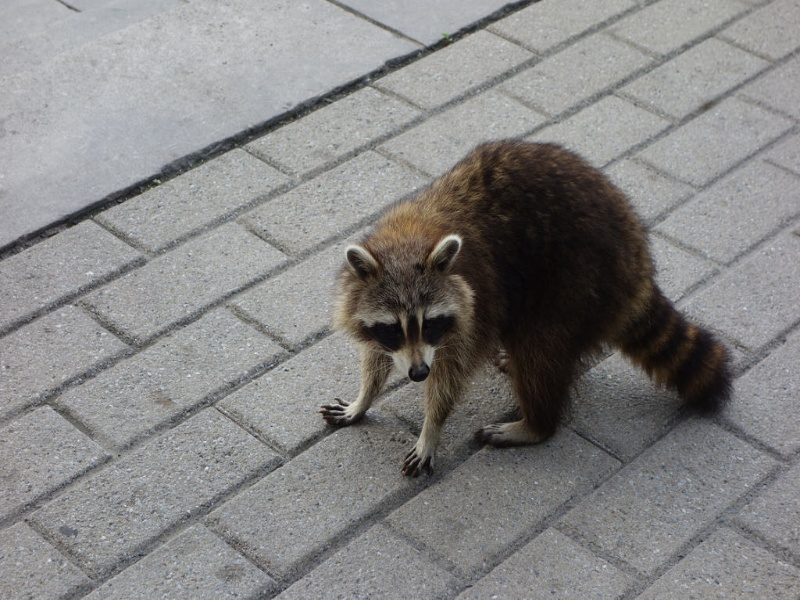raccoon: (320, 137, 733, 485)
